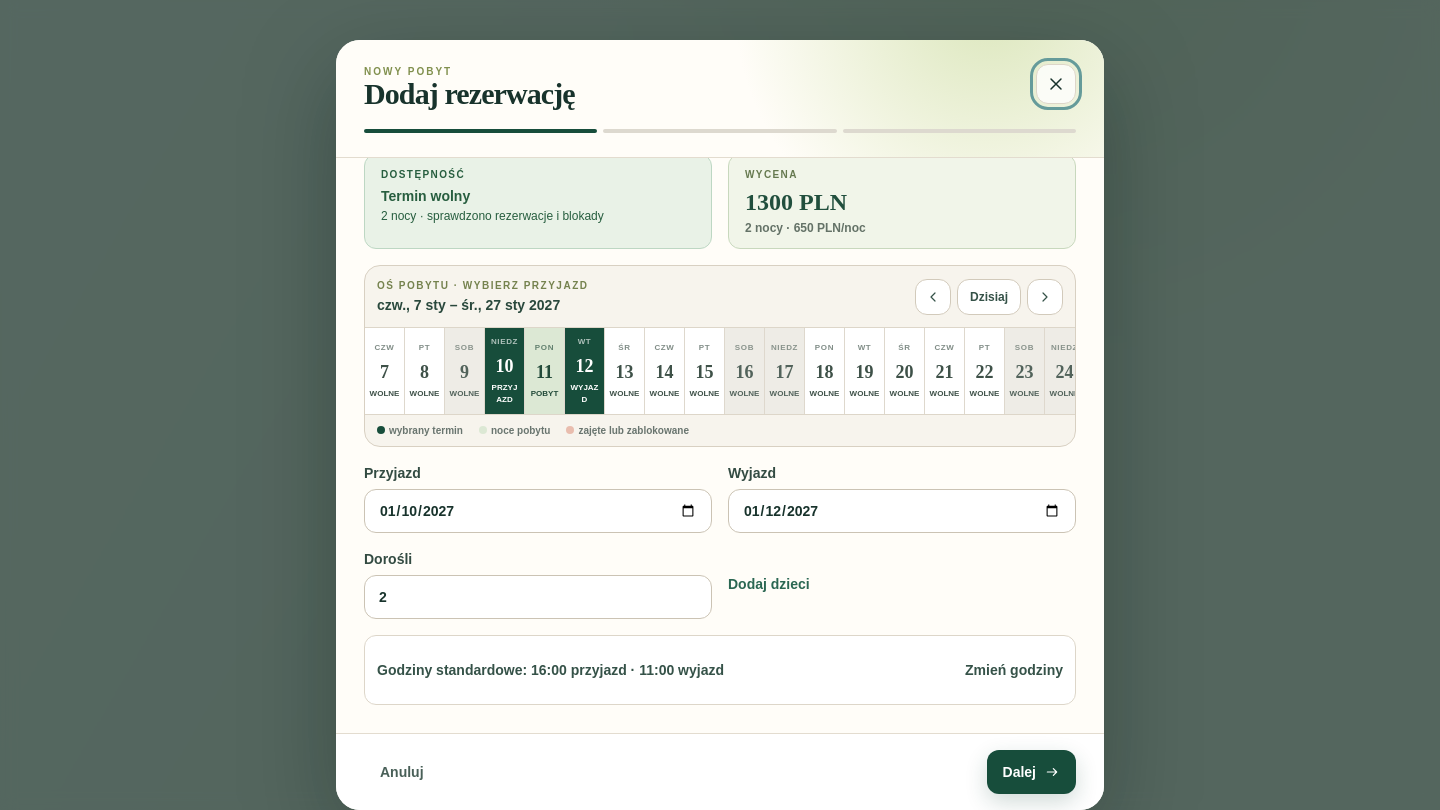
Scenario: NewBookingDialog — PR-10c › przewija treść na górę przy przejściu do następnego kroku
(page scrolled)
Step 1. Click the button "Dalej" → (1031, 772), box [986,750,1076,794]
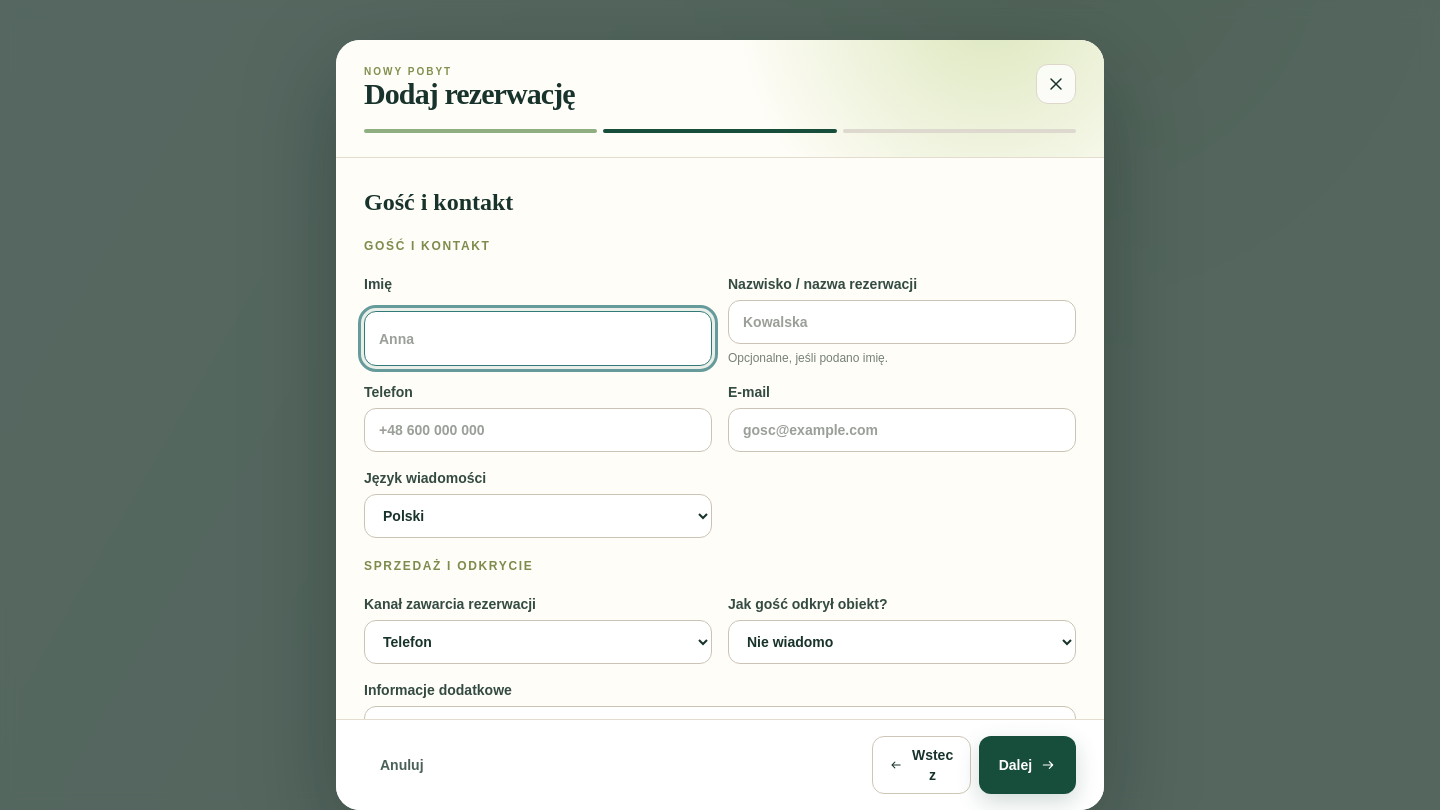
expect the heading "Gość i kontakt" is shown: met, box [364,189,513,215]
